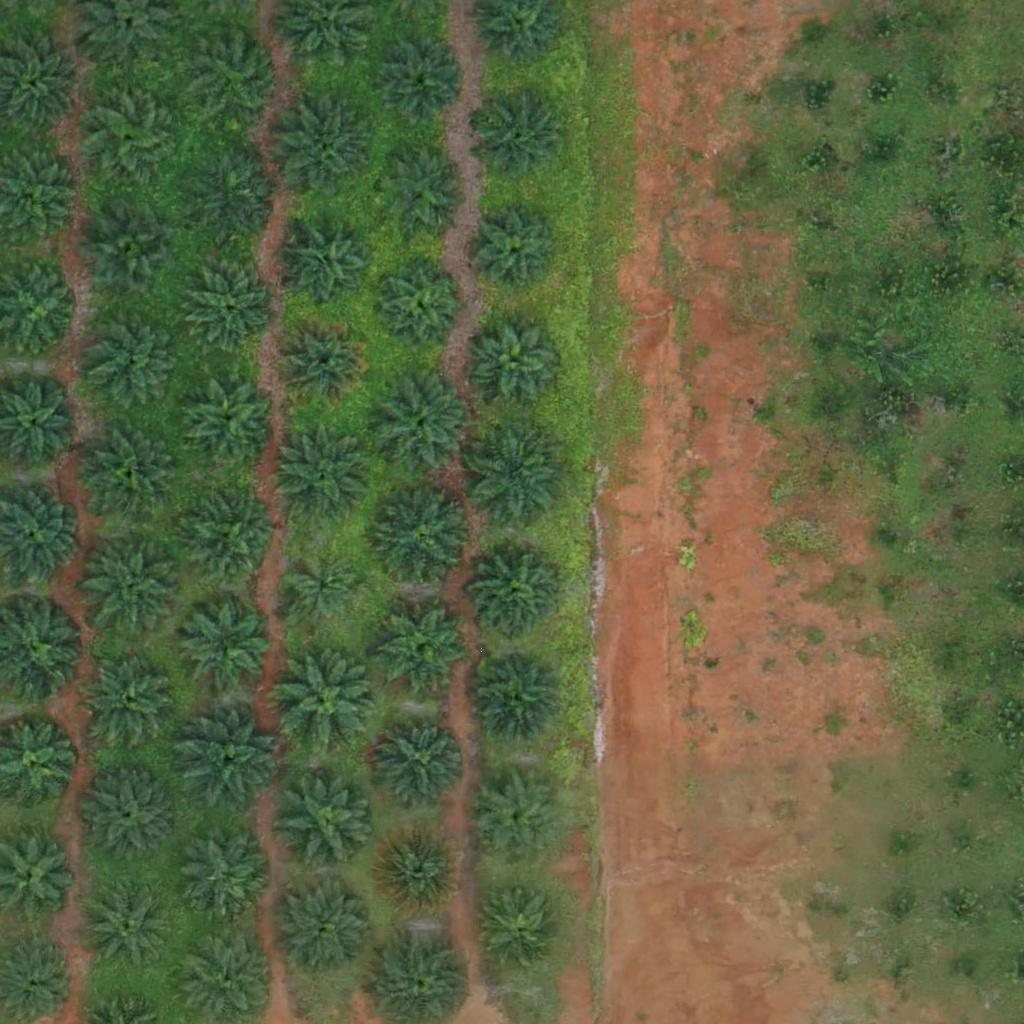Kelapa_Sawit: (275, 101, 375, 202), (279, 652, 379, 753), (179, 372, 279, 473), (180, 488, 280, 589), (178, 712, 278, 813), (85, 308, 185, 409), (82, 425, 182, 526), (81, 534, 181, 635), (80, 651, 180, 752), (78, 767, 178, 868), (277, 773, 377, 874), (275, 877, 375, 978), (187, 27, 287, 127), (186, 147, 286, 247), (464, 422, 564, 522), (369, 374, 469, 474), (371, 488, 471, 588), (274, 426, 374, 526), (85, 89, 173, 177), (88, 208, 176, 296), (375, 37, 463, 125), (477, 93, 565, 181), (473, 207, 561, 295), (474, 317, 562, 405), (381, 604, 469, 692), (375, 714, 463, 802), (188, 264, 276, 352), (86, 881, 174, 969), (375, 825, 463, 913), (480, 888, 568, 976), (379, 149, 466, 237), (284, 221, 371, 309), (474, 554, 561, 642), (475, 651, 562, 739), (474, 777, 561, 865), (376, 260, 463, 348), (280, 318, 367, 406), (183, 600, 270, 688), (190, 828, 277, 916), (286, 554, 361, 630)
